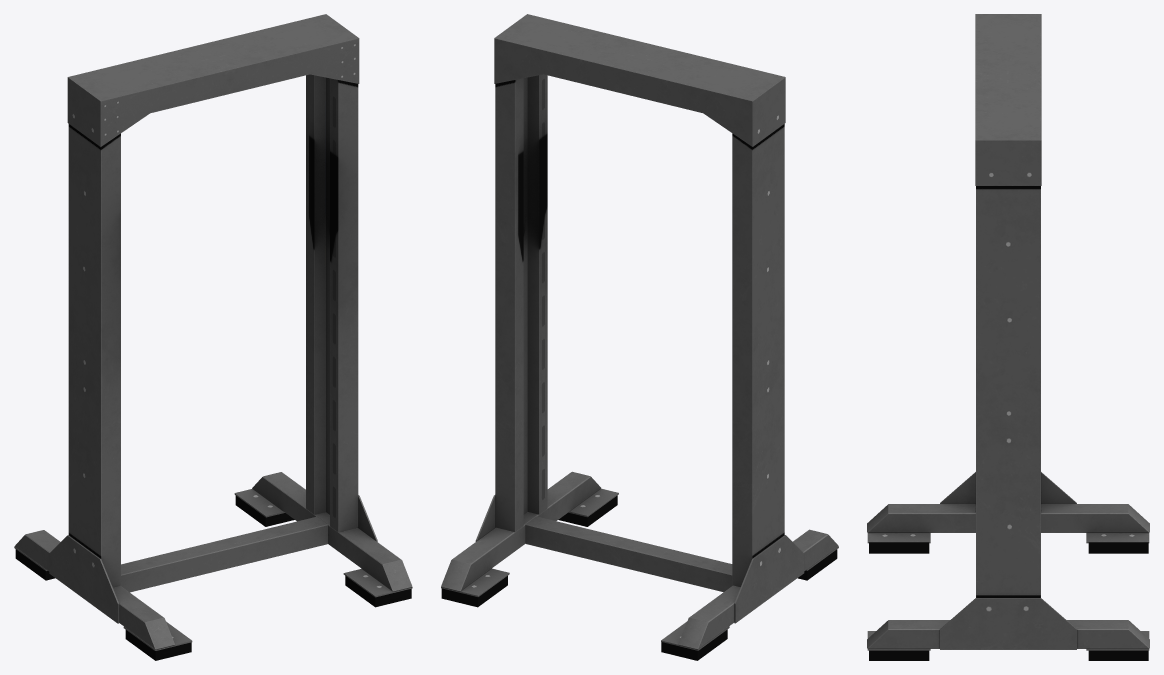
The model's file is Stand.fbx.
3 renders of one model, left to right at view 1: azimuth 30°, elevation 25°; view 2: azimuth 150°, elevation 25°; view 3: azimuth 270°, elevation 25°, orthographic.
Parts seen in each view (by area): view 1: Stand; view 2: Stand; view 3: Stand.
Boxes of the visible parts, x1,y1,x2,y2 form: Stand: (14, 14, 412, 660); Stand: (441, 14, 838, 660); Stand: (867, 14, 1149, 660).
Size of the model in its own units: 1.45 by 2.79 by 1.37.
Materials: 1 (1 with a texture image).
